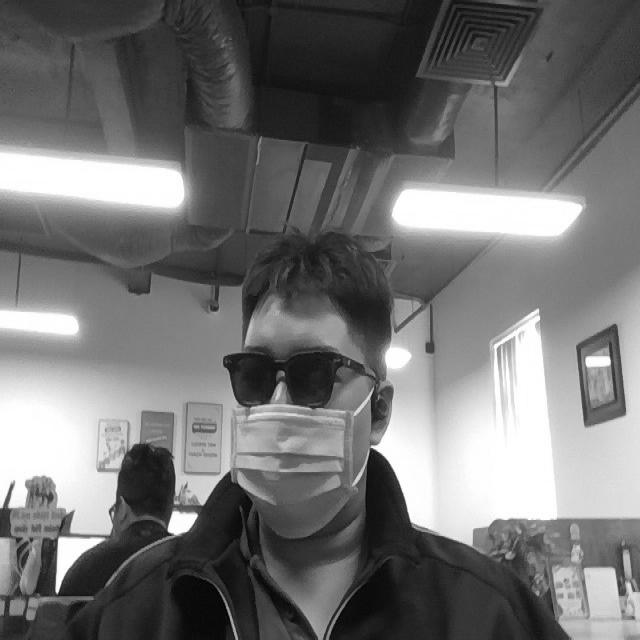fake: (227, 404, 363, 543), (221, 346, 373, 413)
